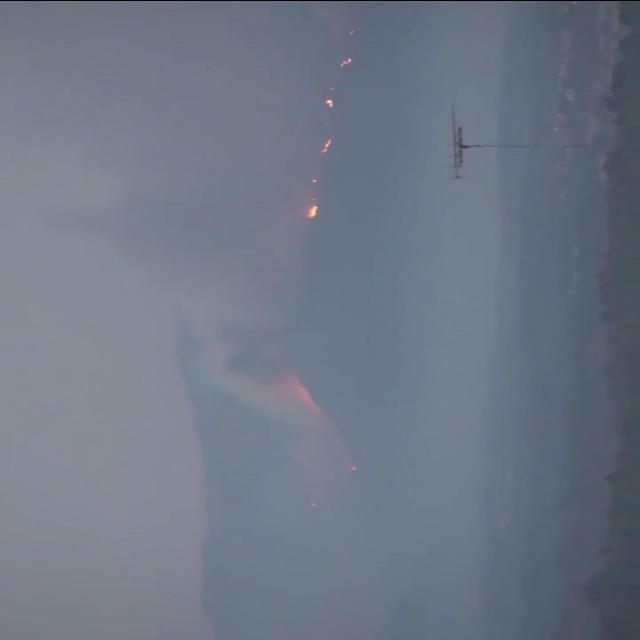Fire: (303, 204, 318, 218), (316, 139, 332, 152), (336, 57, 351, 67), (321, 98, 335, 106)
